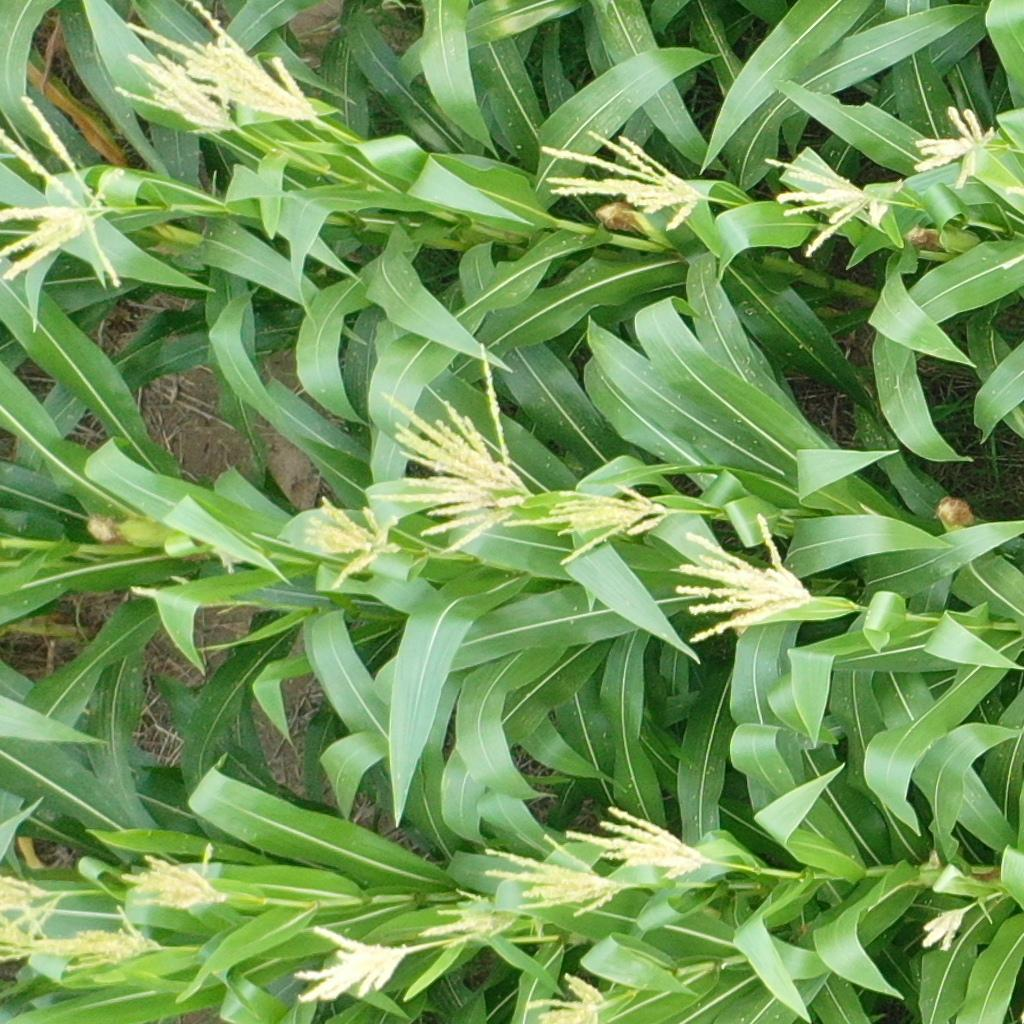Tassel: (381, 343, 523, 556), (1, 97, 129, 292), (126, 1, 321, 126), (671, 512, 818, 644), (539, 130, 701, 224), (503, 484, 669, 566), (761, 154, 886, 259), (116, 33, 236, 136), (486, 835, 624, 919), (568, 806, 713, 876), (293, 924, 413, 1004), (304, 492, 404, 586), (914, 107, 1004, 191), (61, 904, 164, 974), (122, 843, 224, 909), (418, 889, 521, 945), (527, 970, 610, 1024), (1, 872, 66, 936), (1, 904, 63, 962), (919, 906, 967, 951)
